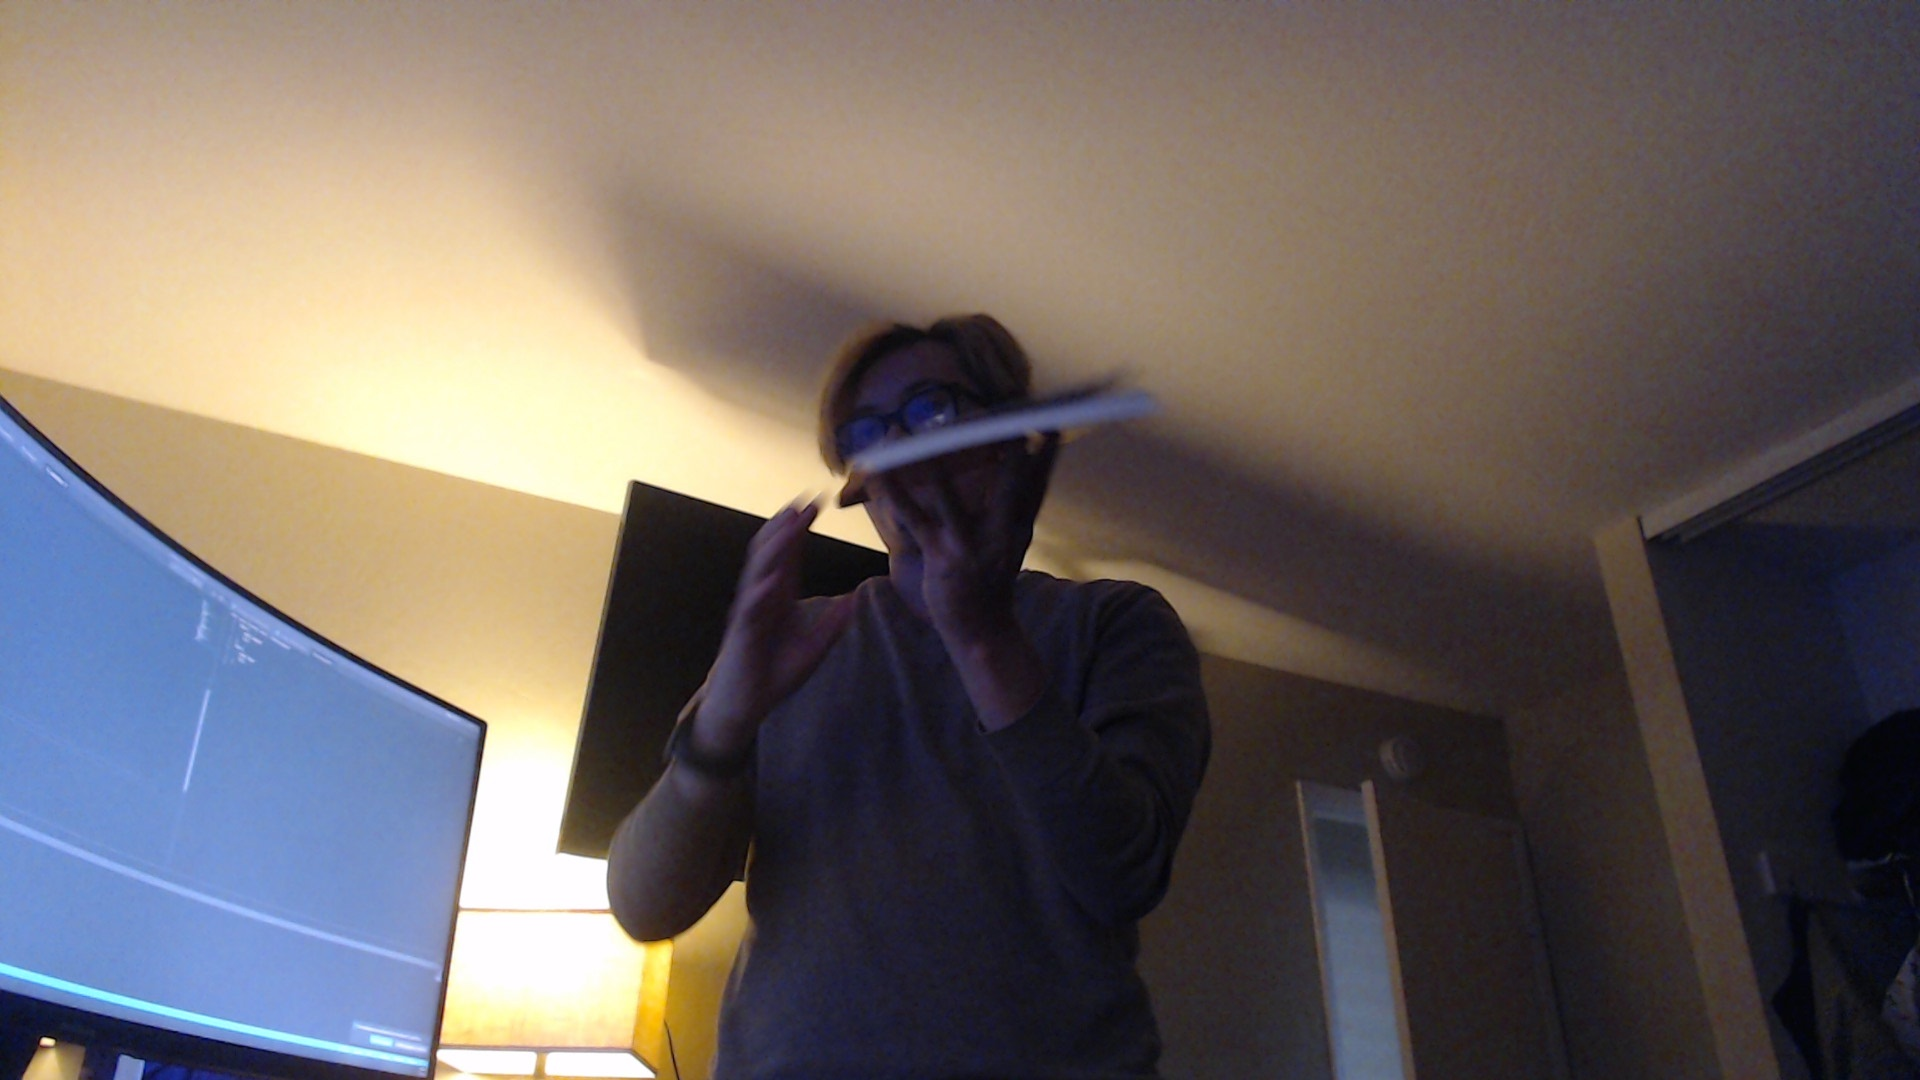book: (832, 375, 1156, 518)
